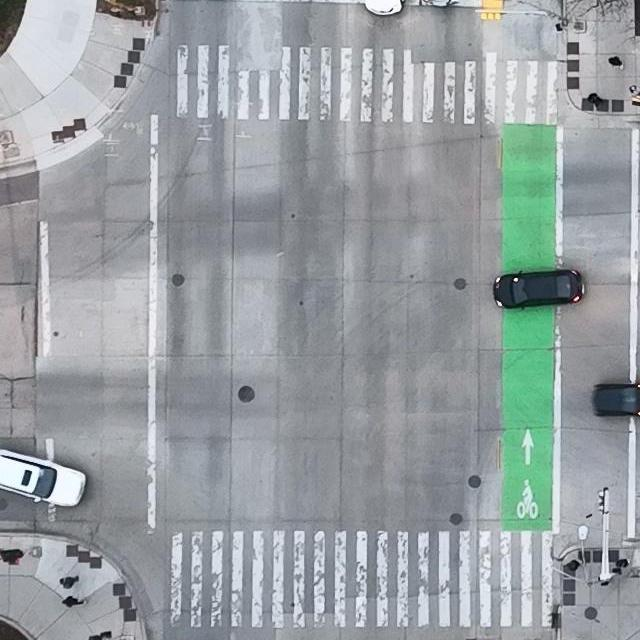car: (0, 448, 86, 507), (494, 268, 585, 310), (592, 383, 640, 418), (364, 0, 402, 16)
